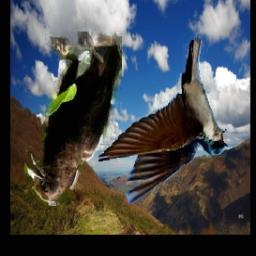Crow: (24, 32, 122, 206)
Swallow: (98, 35, 228, 205)
